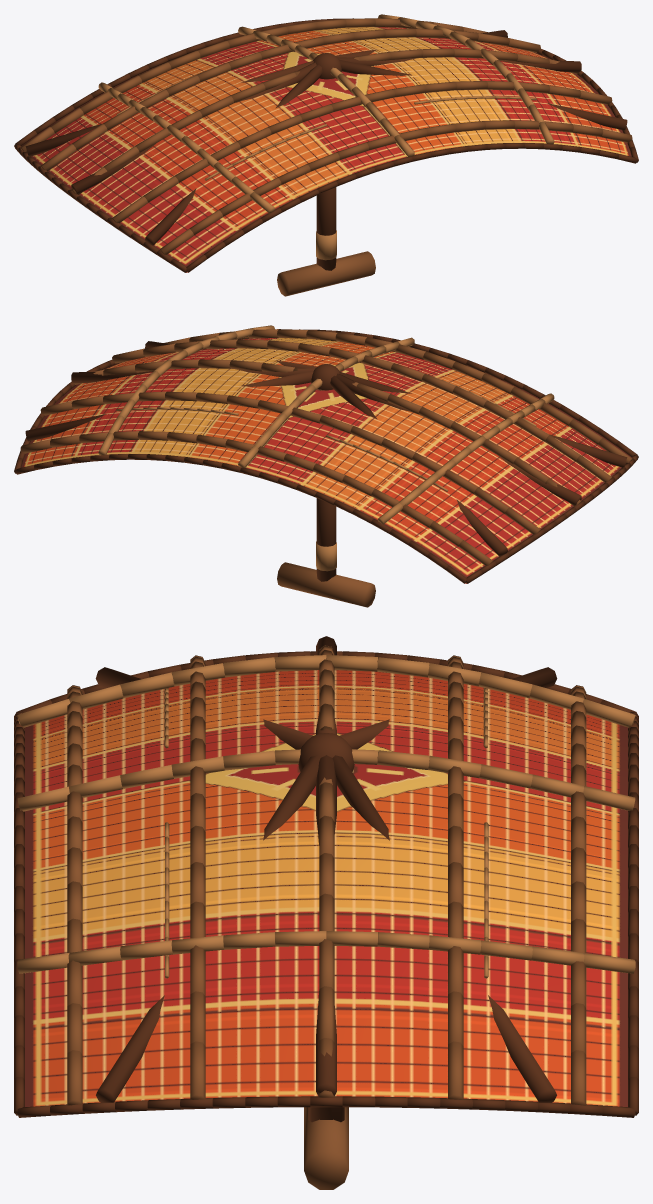
Rendered from zelda_style_paraglider.obj.
3 renders of one model, top to bottom at view 1: azimuth 30°, elevation 25°; view 2: azimuth 150°, elevation 25°; view 3: azimuth 270°, elevation 25°, orthographic. The views are drawn at different scales.
Visible parts, largest first — view 1: Canopy_Fabric, Hand_Grip, Radial_Support_-1_0.72, Radial_Support_1_0.72, Handle_Shaft, Radial_Support_-1_-0.72, Radial_Support_-1_0, Radial_Support_1_0, Handle_Warm_Inlay, Center_Hub; view 2: Canopy_Fabric, Hand_Grip, Radial_Support_-1_-0.72, Radial_Support_1_-0.72, Handle_Shaft, Radial_Support_-1_0.72, Radial_Support_-1_0, Radial_Support_1_0, Handle_Warm_Inlay, Center_Hub; view 3: Canopy_Fabric, Radial_Support_1_-0.72, Radial_Support_1_0.72, Hand_Grip, Radial_Support_1_0, Center_Hub, Radial_Support_-1_-0.72, Radial_Support_-1_0.72, Cross_Rib_1_15, Cross_Rib_3_15, Cross_Rib_0_15, Cross_Rib_4_15 (+23 smaller).
Part boxes in pixels (bbox=[...]): Canopy_Fabric: bbox=[21, 27, 631, 272]; Hand_Grip: bbox=[277, 251, 375, 296]; Radial_Support_-1_0.72: bbox=[145, 64, 322, 245]; Radial_Support_1_0.72: bbox=[339, 59, 627, 130]; Handle_Shaft: bbox=[316, 187, 336, 270]; Radial_Support_-1_-0.72: bbox=[25, 61, 313, 156]; Radial_Support_-1_0: bbox=[71, 62, 316, 194]; Radial_Support_1_0: bbox=[337, 57, 581, 71]; Handle_Warm_Inlay: bbox=[316, 230, 336, 260]; Center_Hub: bbox=[313, 53, 341, 79]; Canopy_Fabric: bbox=[21, 338, 631, 583]; Hand_Grip: bbox=[277, 562, 375, 607]; Radial_Support_-1_-0.72: bbox=[330, 375, 507, 556]; Radial_Support_1_-0.72: bbox=[25, 370, 313, 441]; Handle_Shaft: bbox=[316, 498, 336, 581]; Radial_Support_-1_0.72: bbox=[339, 372, 627, 467]; Radial_Support_-1_0: bbox=[336, 373, 581, 504]; Radial_Support_1_0: bbox=[71, 368, 315, 382]; Handle_Warm_Inlay: bbox=[316, 541, 336, 571]; Center_Hub: bbox=[311, 364, 339, 390]; Canopy_Fabric: bbox=[25, 670, 627, 1106]; Radial_Support_1_-0.72: bbox=[332, 755, 556, 1102]; Radial_Support_1_0.72: bbox=[96, 755, 320, 1102]; Hand_Grip: bbox=[304, 1107, 348, 1189]; Radial_Support_1_0: bbox=[316, 755, 336, 1096]; Center_Hub: bbox=[298, 733, 354, 771]; Radial_Support_-1_-0.72: bbox=[339, 667, 557, 749]; Radial_Support_-1_0.72: bbox=[95, 667, 313, 749]; Cross_Rib_1_15: bbox=[448, 1041, 463, 1099]; Cross_Rib_3_15: bbox=[190, 1041, 205, 1099]; Cross_Rib_0_15: bbox=[571, 1050, 586, 1105]; Cross_Rib_4_15: bbox=[67, 1050, 82, 1105].
Size of the model in its own units: 3.53 by 1.53 by 2.08.
